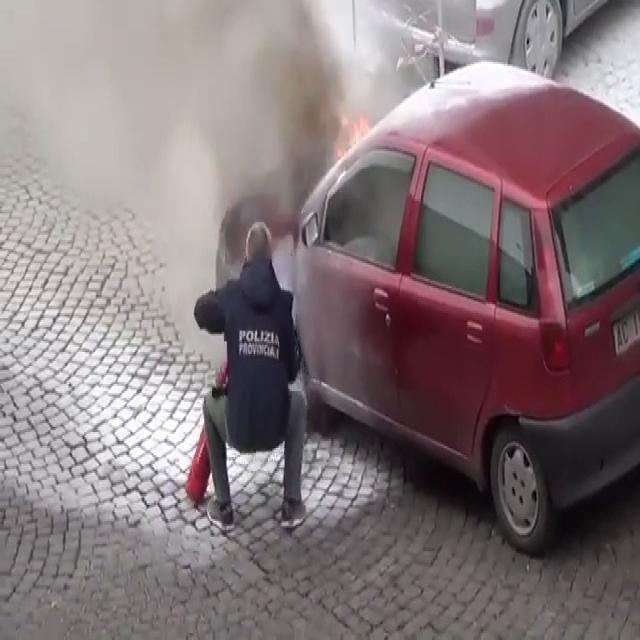Smoke: (0, 0, 371, 263)
